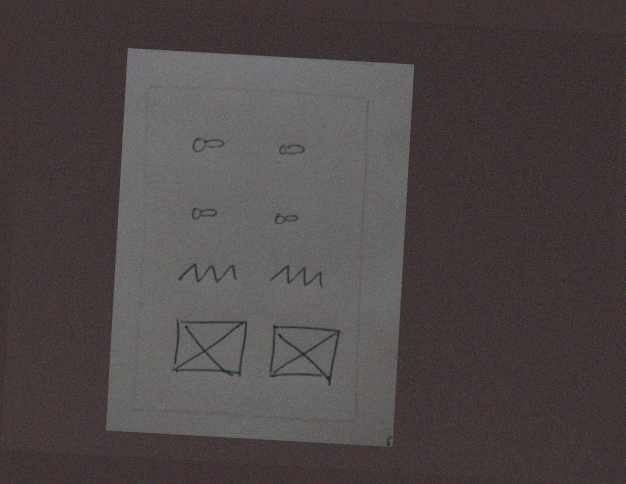image: (163, 313, 252, 381), (263, 318, 346, 390)
switch: (187, 127, 229, 159), (271, 136, 315, 163), (265, 204, 307, 231), (185, 198, 224, 227)
text: (262, 255, 334, 295), (172, 253, 244, 289)
